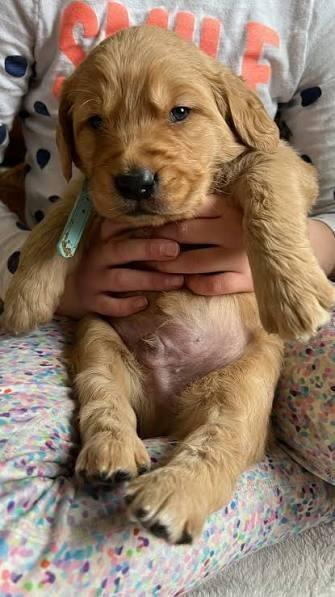puppy-dog: (1, 25, 332, 546)
